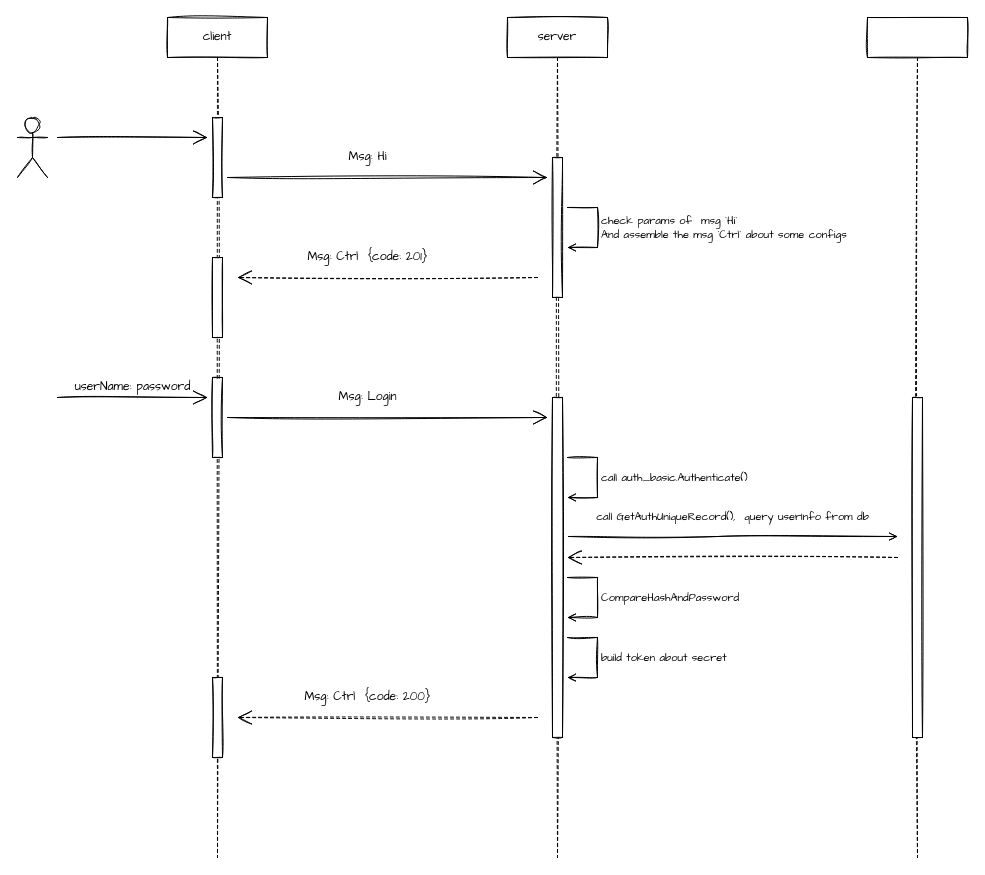
Some shapes in this 985 by 875 pixel diagram are drawn without their labels. The centre of each missing label's shape, as x and y in pixels:
"db" belongs at [917,437].
"User" belongs at [32,147].
